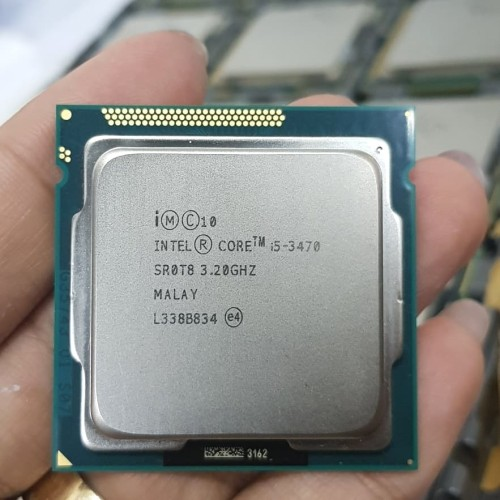processor: (51, 103, 419, 474)
